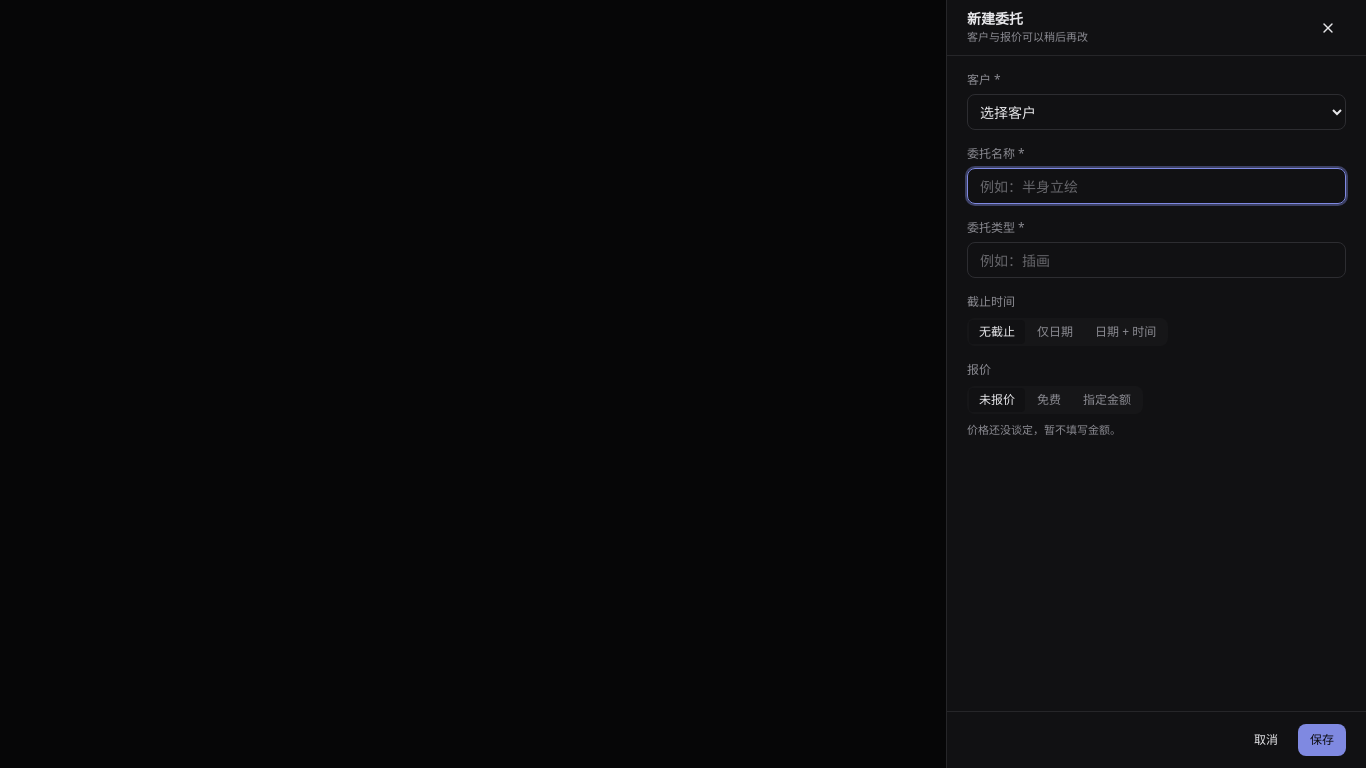
it: 委托表单：报价三态 › 金额格式错误时阻止提交并提示
This screenshot has width=1366, height=768.
Select "小夏" in the dropdown labelled "客户 *" at {"x": 1156, "y": 112}, box [967, 94, 1346, 130]
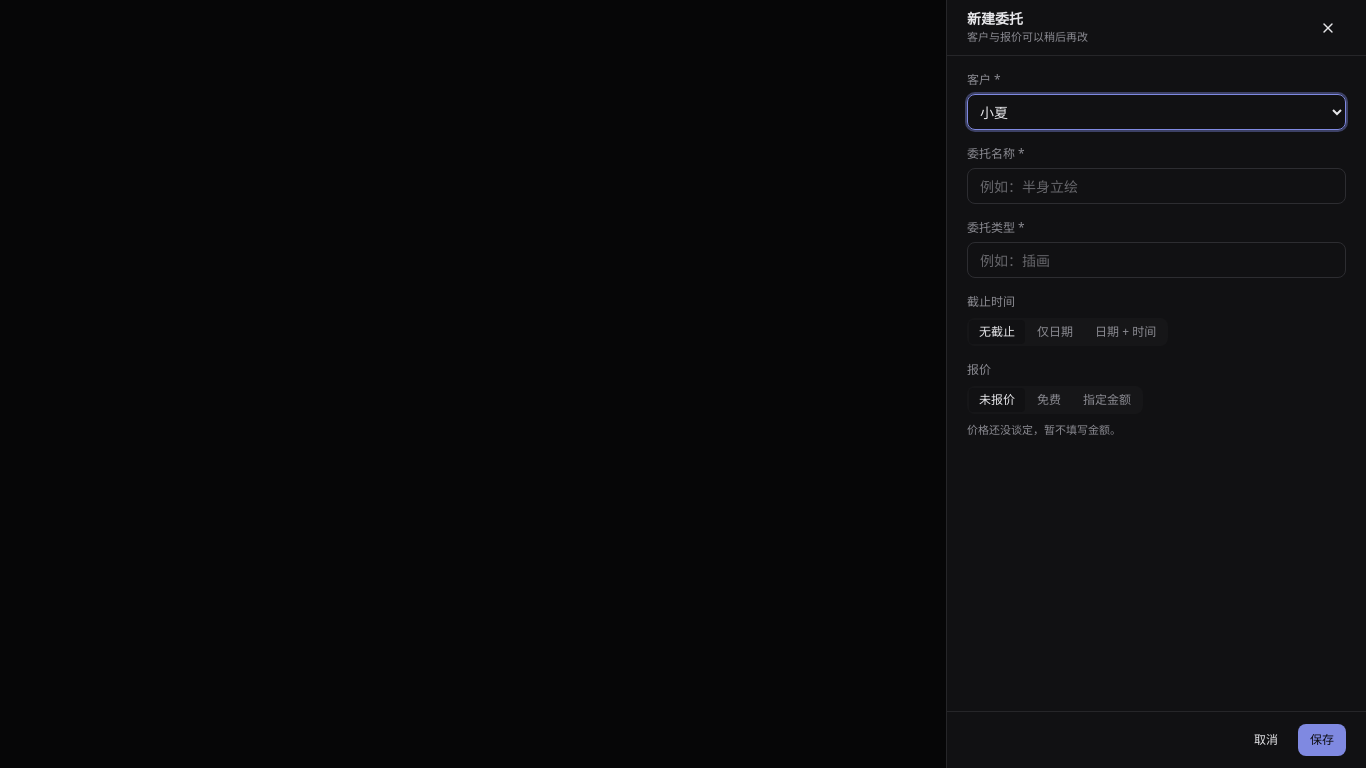
Type "x" into the field labelled "委托名称 *".
click(1156, 186); type("x")  # box [967, 168, 1346, 204]
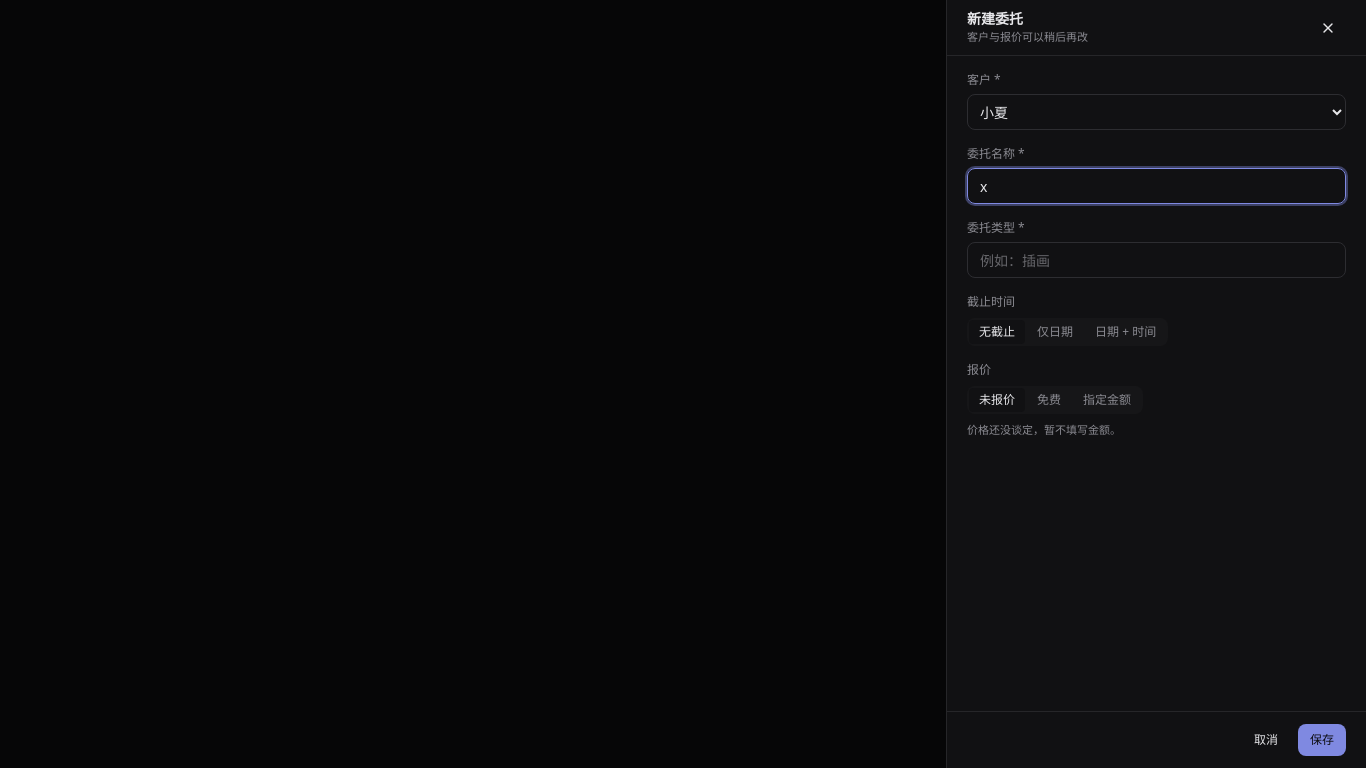
Type "y" into the field labelled "委托类型 *".
click(1156, 260); type("y")  # box [967, 242, 1346, 278]
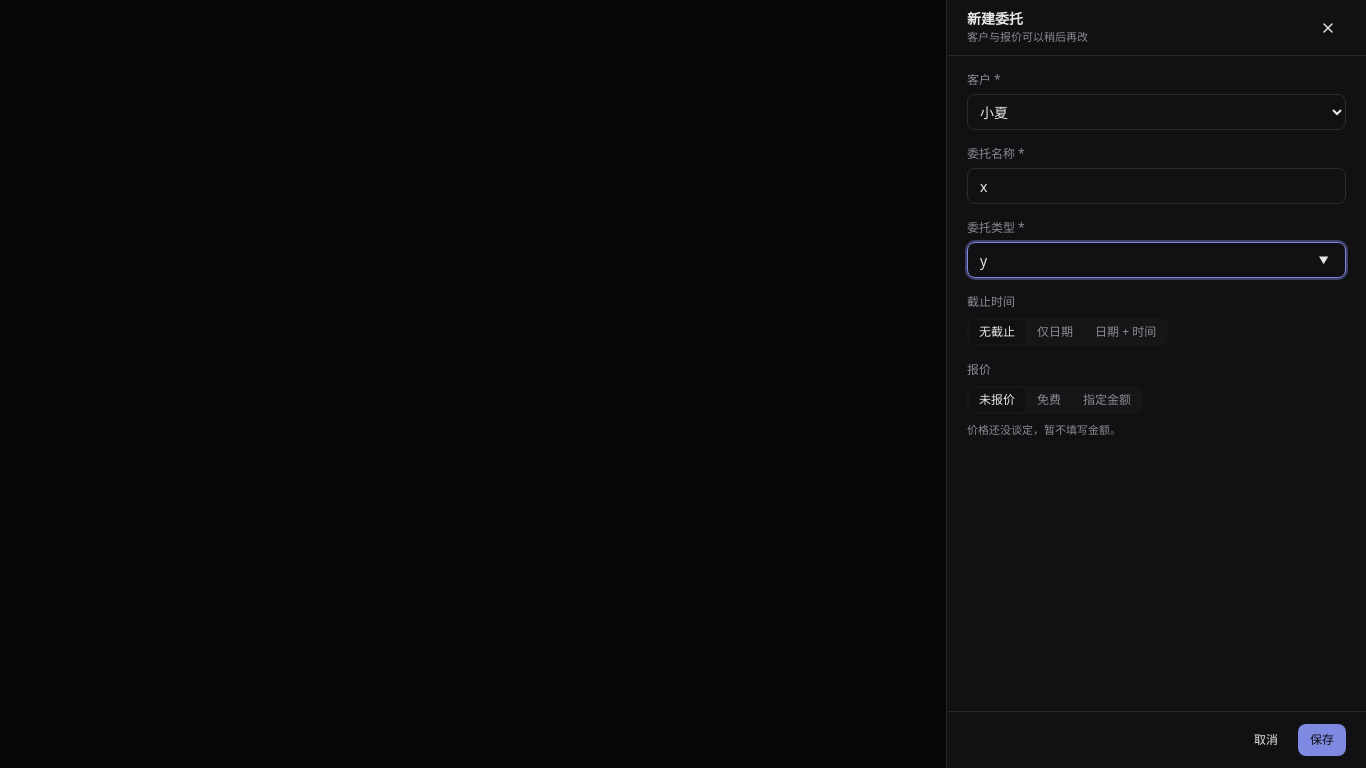
Click the radio button labelled "指定金额".
click(1107, 400)  # box [1073, 388, 1141, 412]
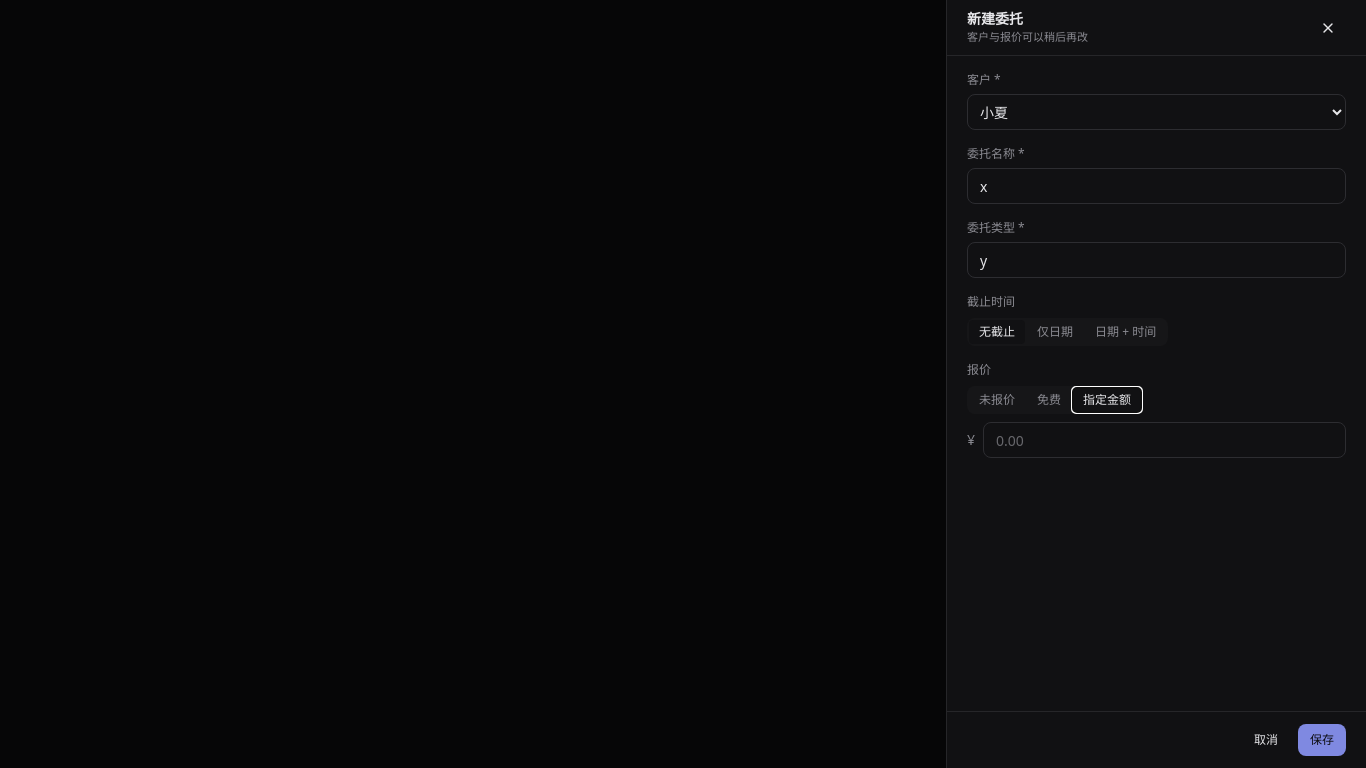
Type "12.345" into the field named "报价金额（元）".
click(1164, 440); type("12.345")  # box [983, 422, 1346, 458]
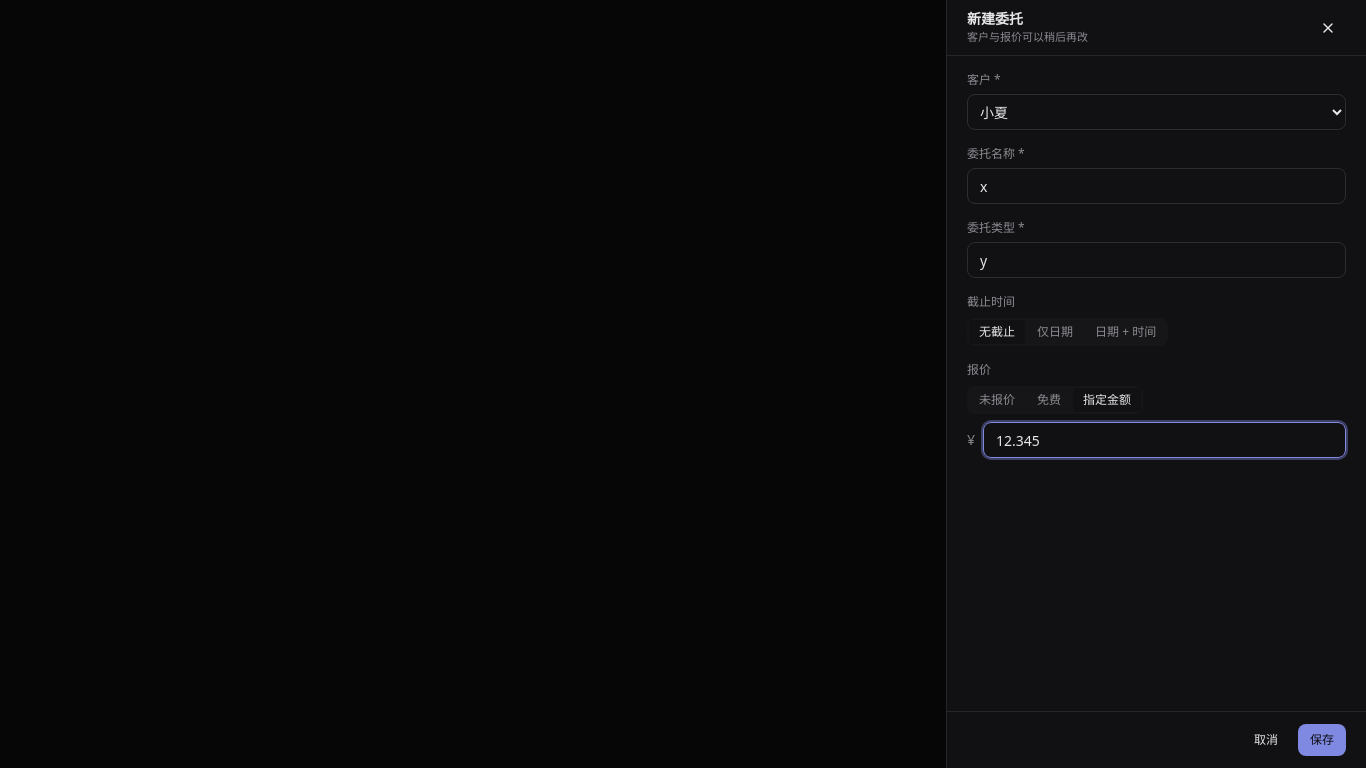
Click the button "保存".
click(1322, 740)  # box [1298, 724, 1346, 756]
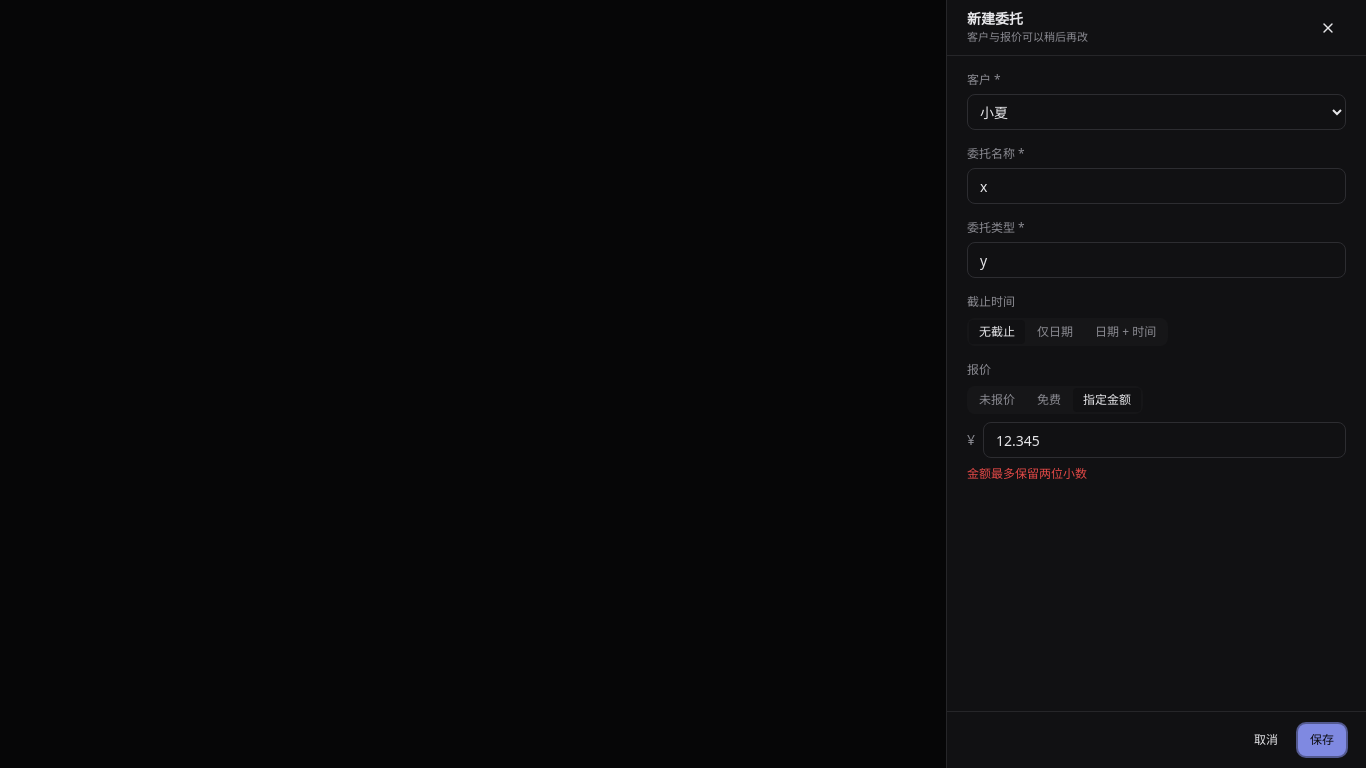
expect the text "金额最多保留两位小数" is shown: met, box [967, 465, 1087, 482]
